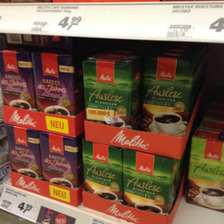coffee: (141, 49, 197, 135), (82, 51, 142, 131), (123, 149, 178, 216), (32, 49, 81, 117), (81, 138, 123, 202), (40, 131, 81, 188), (1, 47, 35, 111), (6, 124, 40, 178)
